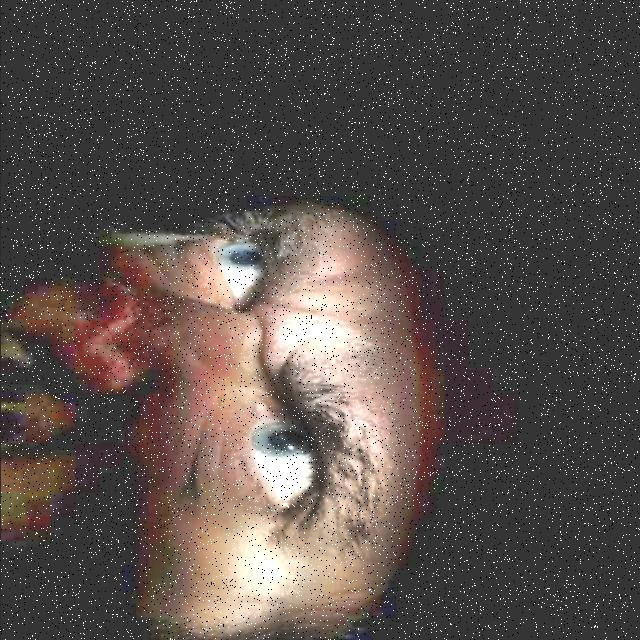angry: (132, 188, 424, 640)
